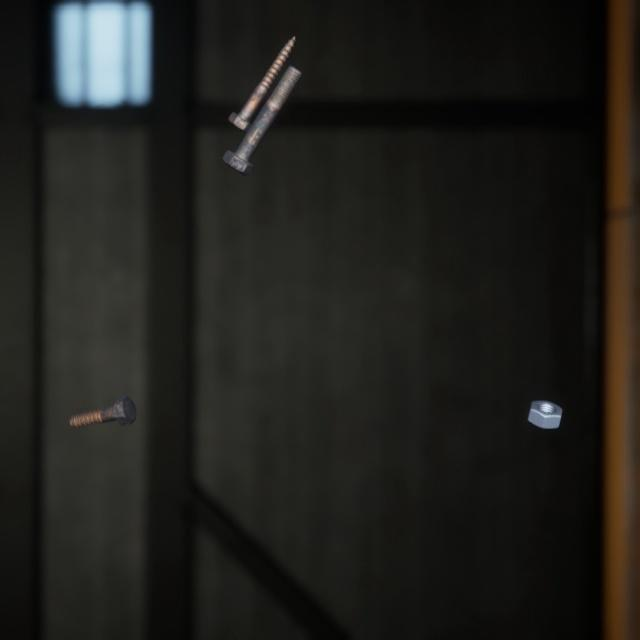bolt: (217, 48, 306, 166), (223, 19, 300, 125), (64, 371, 140, 412)
nut: (523, 376, 566, 413)
